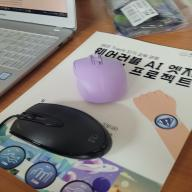mouse: (8, 102, 114, 162), (70, 52, 128, 104)
